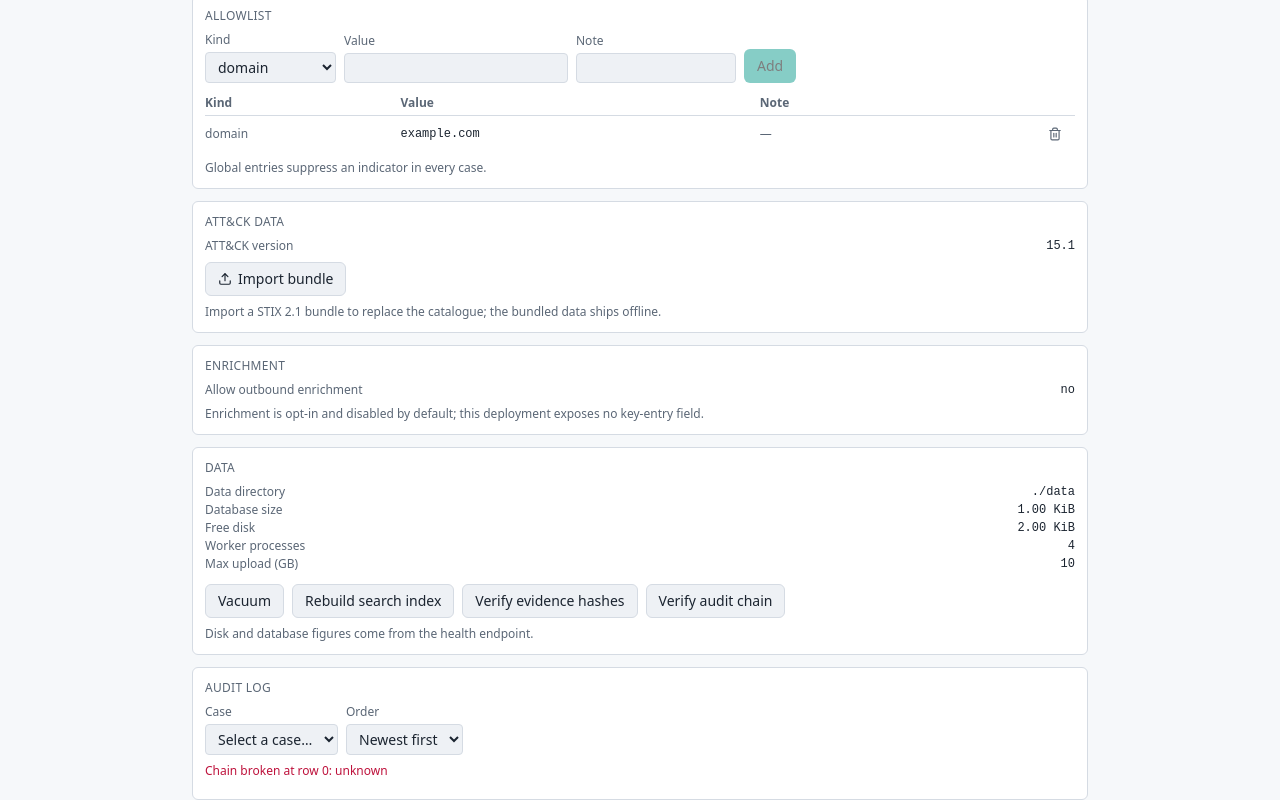
Test: SettingsPage › vacuums the database and reports the reclaimed space
(page scrolled)
Click the button "Vacuum".
click(245, 601)  # box [205,584,284,618]
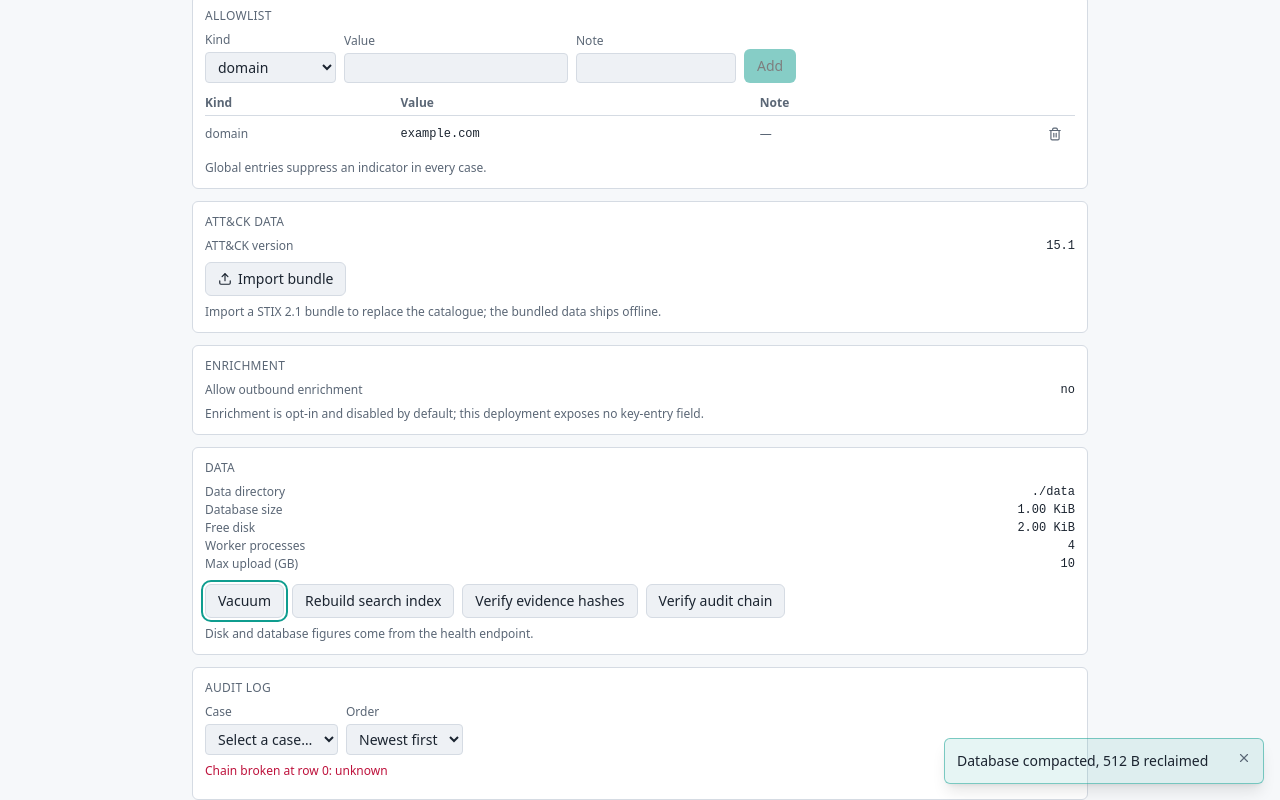
Expected: the text "Database compacted, 512 B reclaimed" is shown, [957,751,1229,771]
